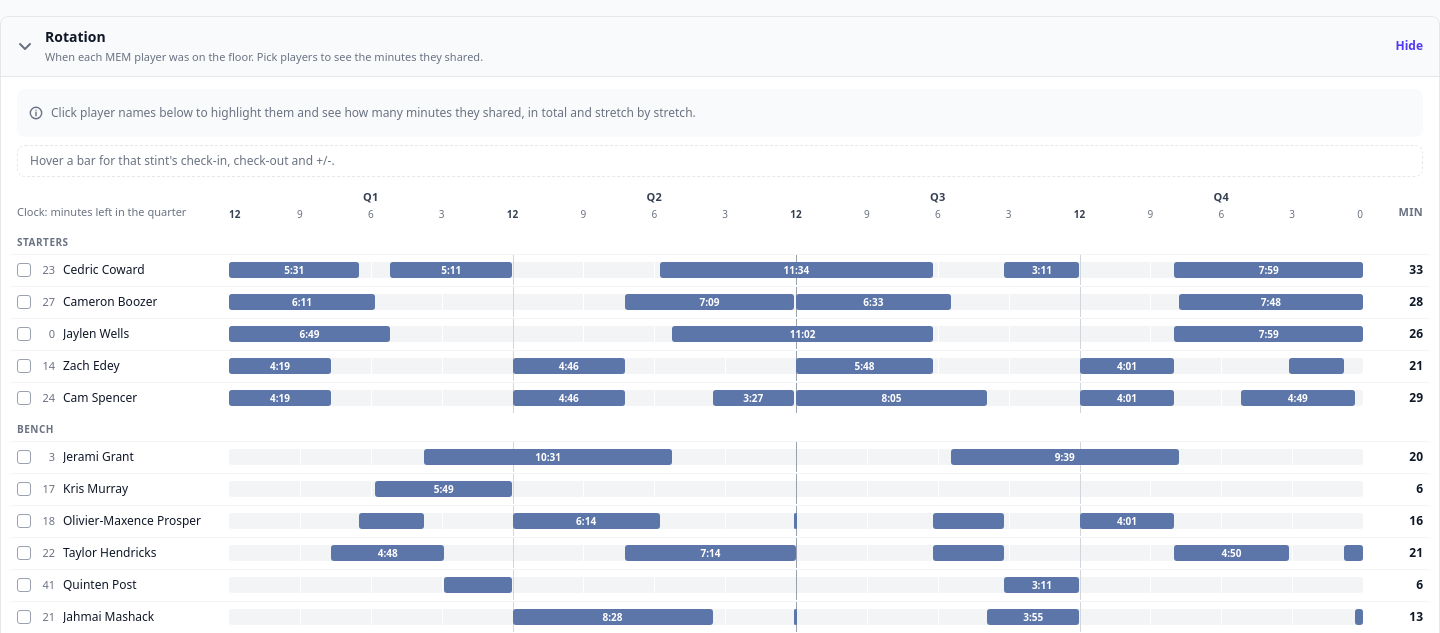
RotationCard › shows one pick's stints, then the time two picks shared
The image size is (1440, 633).
Click the button with aria-label "Compare Cam Spencer": [115, 398] box left=13, top=384, right=217, bottom=412
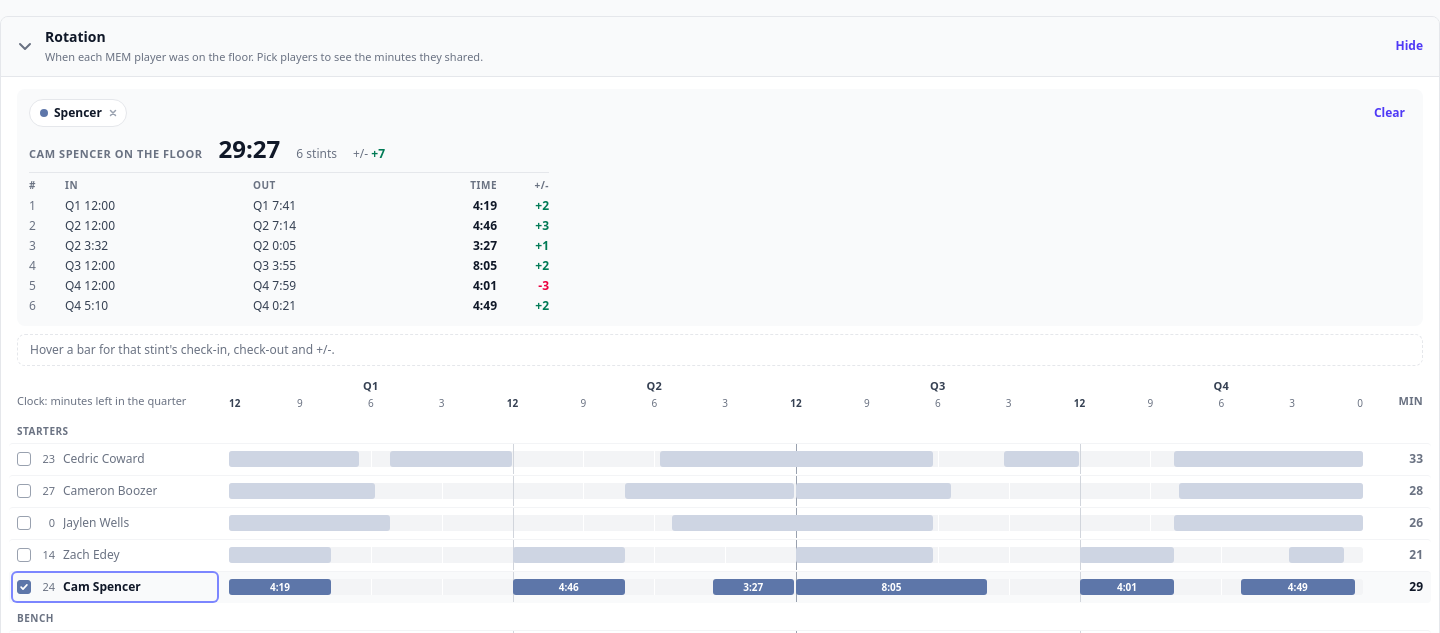
Check: the text "Cam Spencer on the floor" is shown, box left=29, top=146, right=203, bottom=161
Check: the number of rows is 7
Click the button with aria-label "Compare Jaylen Wells": [115, 523] box left=13, top=509, right=217, bottom=537
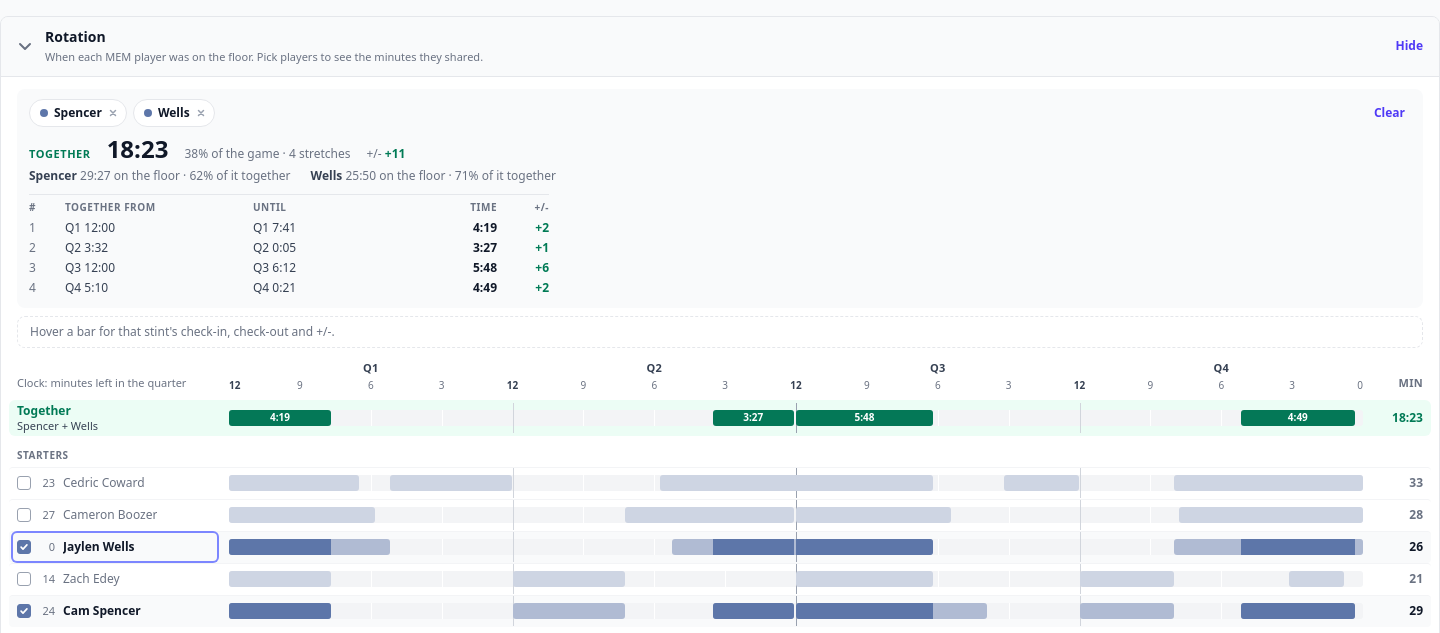
Check: the element with test id "rotation-together" shows "Spencer + Wells", box left=17, top=418, right=98, bottom=433
Check: the button with aria-label "Remove Jaylen Wells from the comparison" is shown, box left=133, top=98, right=215, bottom=126
Check: the text "Spencer 29:27 on the floor · 62% of it together" is shown 2 times, box left=29, top=168, right=290, bottom=184; left=310, top=168, right=556, bottom=184
Hover over the button named "Jaylen Wells, stint 1 of 3": [310, 547] box left=229, top=539, right=390, bottom=555
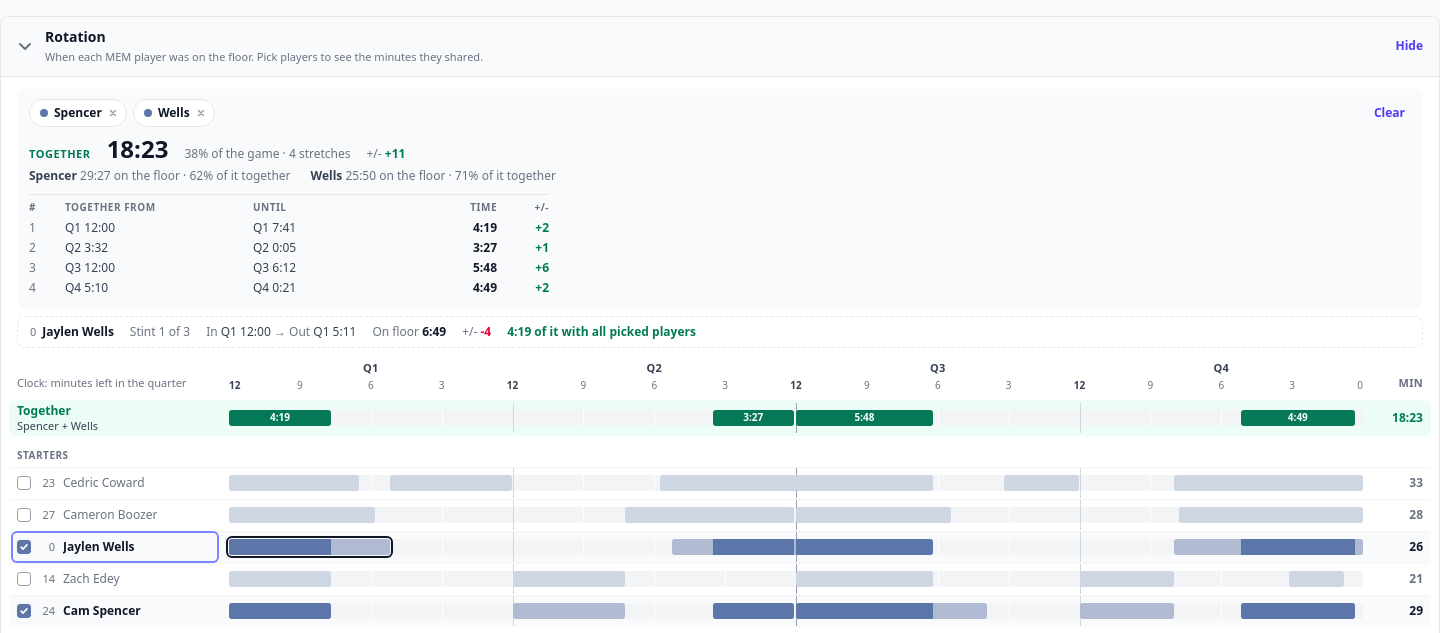
Check: the text "Stint 1 of 3" is shown, box left=130, top=324, right=190, bottom=340
Check: the text "4:19 of it with all picked players" is shown, box left=507, top=324, right=696, bottom=340
Click the button "Clear": [1389, 112] box left=1368, top=98, right=1411, bottom=126
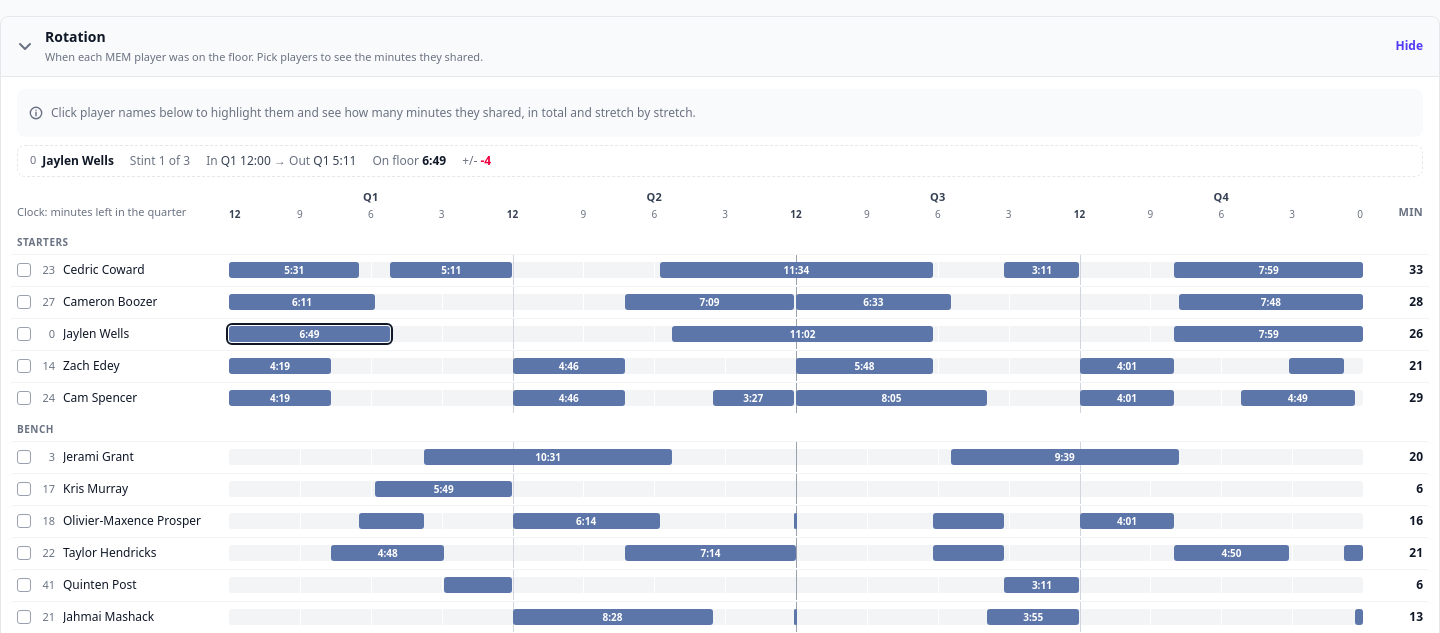
Check: the element with test id "rotation-together" is gone
